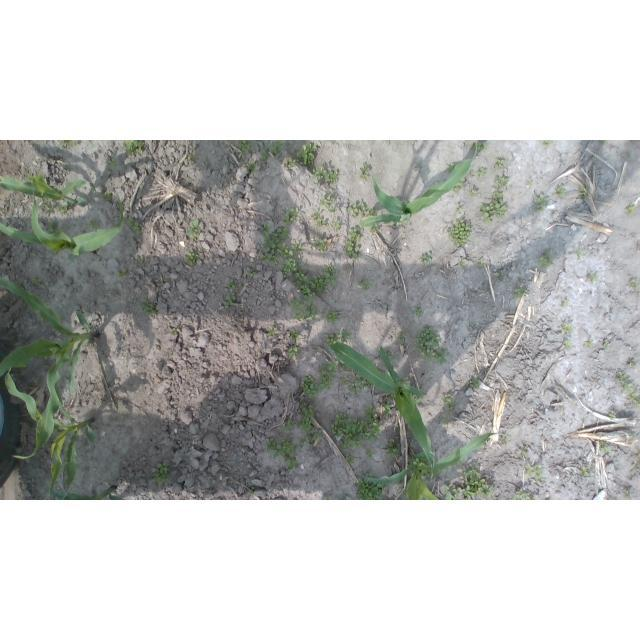Maize: (1, 275, 98, 461), (328, 342, 436, 479), (3, 366, 98, 500), (360, 143, 479, 227), (359, 432, 495, 500), (0, 186, 124, 260), (1, 173, 96, 208), (50, 485, 124, 500)
Weeds: (329, 404, 383, 452), (260, 223, 297, 277), (295, 264, 338, 297), (457, 464, 494, 500), (416, 326, 449, 365), (480, 191, 508, 223), (355, 480, 389, 500), (448, 218, 472, 246), (342, 373, 371, 396), (265, 439, 300, 458), (318, 360, 339, 391), (346, 199, 378, 218), (293, 297, 318, 321), (296, 142, 318, 166), (313, 166, 340, 184), (344, 227, 360, 257), (297, 405, 314, 433), (301, 375, 319, 401), (324, 328, 352, 344), (153, 461, 171, 485), (616, 371, 634, 394), (322, 189, 339, 212), (300, 431, 323, 446), (127, 216, 144, 236), (139, 299, 158, 316), (282, 208, 302, 224), (311, 209, 328, 227), (387, 438, 402, 458), (186, 220, 200, 241), (123, 140, 144, 154), (534, 194, 550, 212), (383, 397, 396, 418), (311, 236, 327, 253), (441, 394, 456, 412), (525, 463, 543, 477), (539, 249, 552, 268), (284, 457, 300, 472), (184, 251, 199, 267), (236, 141, 253, 154), (271, 140, 284, 157), (291, 241, 303, 259), (494, 175, 509, 189), (596, 440, 612, 453), (358, 164, 370, 181), (514, 489, 531, 500), (279, 420, 293, 433), (360, 277, 373, 291), (325, 309, 337, 324), (44, 198, 55, 214), (468, 374, 480, 388), (226, 279, 238, 293), (469, 168, 487, 177), (446, 484, 456, 500), (472, 142, 488, 152), (579, 187, 592, 199), (628, 280, 640, 293), (338, 360, 352, 371), (421, 251, 432, 265), (60, 140, 79, 148), (414, 459, 430, 468), (411, 393, 425, 403), (289, 329, 300, 341), (562, 322, 573, 334), (556, 185, 567, 197), (224, 295, 236, 306), (413, 304, 424, 316), (116, 269, 127, 280), (89, 219, 100, 230), (260, 149, 268, 164), (107, 157, 117, 169), (286, 157, 296, 168), (369, 224, 379, 235), (58, 203, 69, 213), (623, 489, 633, 500), (445, 164, 457, 173), (104, 189, 113, 201), (425, 472, 440, 479), (632, 394, 640, 407), (580, 467, 590, 477), (455, 182, 465, 192), (627, 204, 637, 214), (289, 348, 300, 357), (268, 326, 277, 337), (496, 159, 505, 170), (246, 162, 257, 171), (368, 449, 377, 459), (564, 339, 573, 349), (589, 273, 598, 283), (631, 464, 640, 474), (34, 376, 43, 386), (384, 348, 392, 359), (576, 252, 587, 260), (332, 220, 341, 229), (248, 268, 257, 277), (515, 288, 522, 299), (584, 340, 593, 348), (459, 259, 468, 267), (40, 356, 48, 365), (171, 328, 181, 335), (347, 455, 354, 465), (398, 333, 408, 340), (517, 451, 528, 457), (542, 141, 555, 146), (441, 416, 449, 424), (400, 376, 408, 384), (500, 435, 508, 443), (457, 204, 464, 212), (413, 163, 420, 171), (536, 476, 545, 482), (32, 279, 40, 285), (636, 447, 640, 459), (629, 360, 635, 368), (604, 339, 609, 348), (609, 413, 615, 420), (562, 300, 569, 306), (187, 153, 194, 159), (368, 472, 376, 477), (472, 190, 477, 196), (99, 468, 105, 473), (480, 260, 484, 267), (89, 140, 96, 144), (525, 291, 531, 295), (500, 270, 505, 274), (332, 140, 337, 144), (249, 490, 253, 495), (600, 141, 606, 144)
